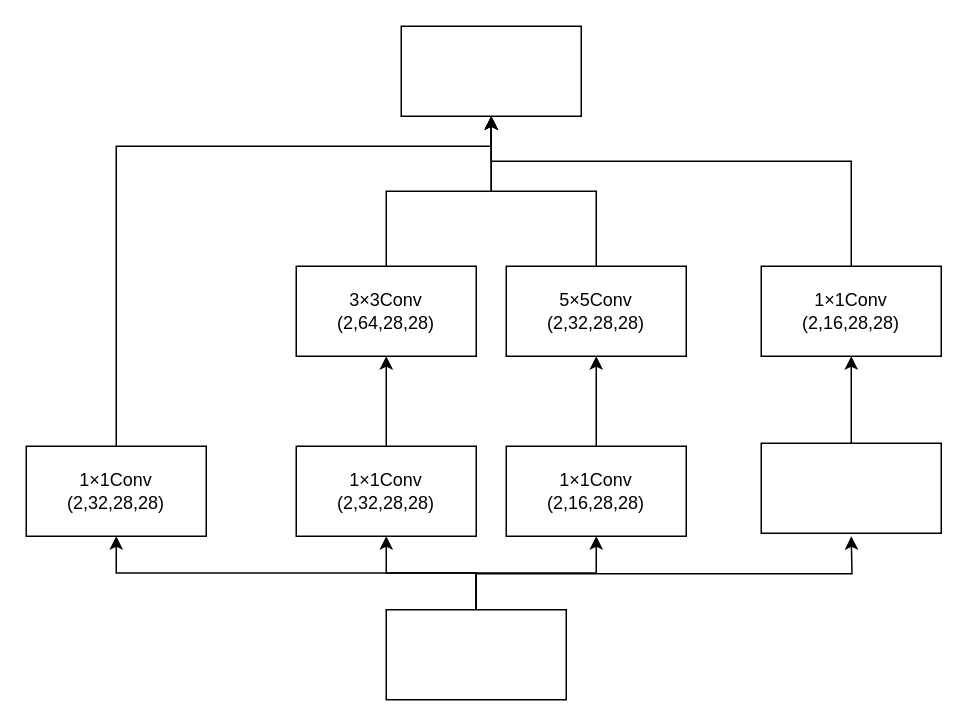
Some shapes in this 968 by 726 pixel diagram are drawn without their labels. The box of each missing label's shape, as (x1, y1, x2, y2) in pixels:
3×3MaxPool (2,64,28,28): (760, 442, 941, 533)
INPUT (2,64,28,28): (385, 608, 566, 700)
OUTPUT (2,144,28,28): (400, 25, 581, 116)
